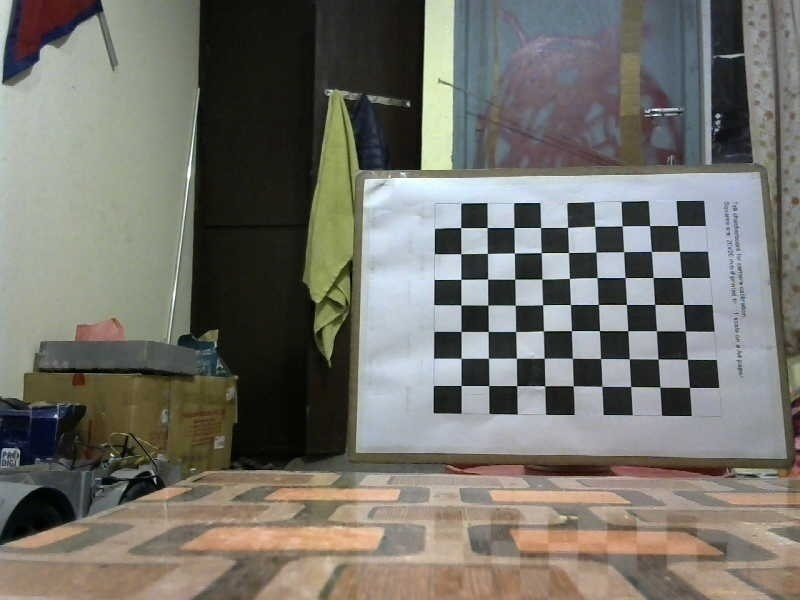block: (357, 173, 784, 461)
